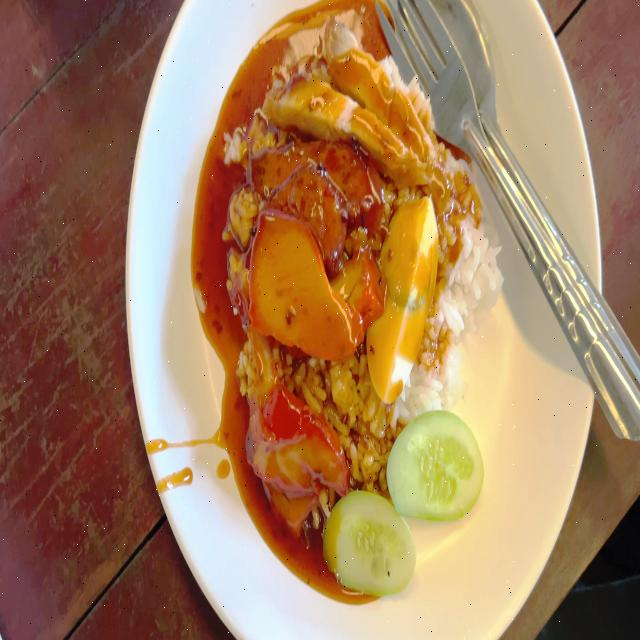boiled_egg: (373, 194, 435, 405)
chainese_sausage: (276, 123, 380, 250)
crispy_pork: (278, 27, 443, 192)
cucumber: (384, 411, 486, 515), (328, 489, 407, 587)
red_pork: (254, 209, 359, 360), (246, 375, 338, 520)
red_pork_and_crispy_pork: (224, 24, 506, 600)
